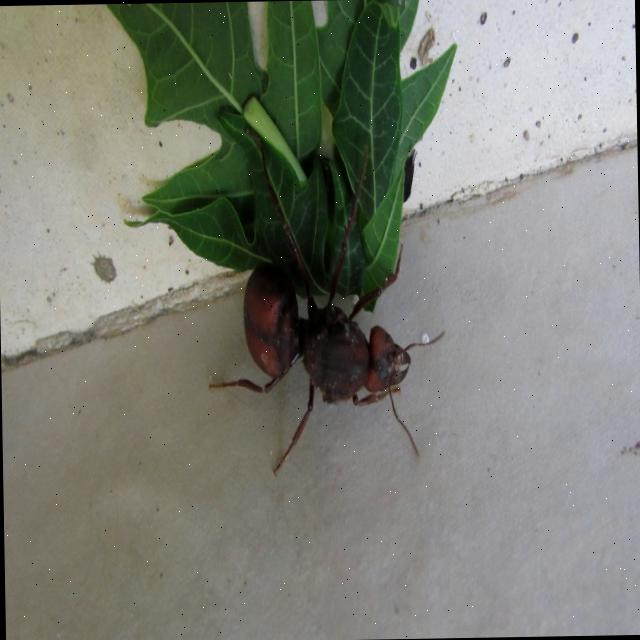Alive-Female-Dealate: (203, 122, 448, 477)
